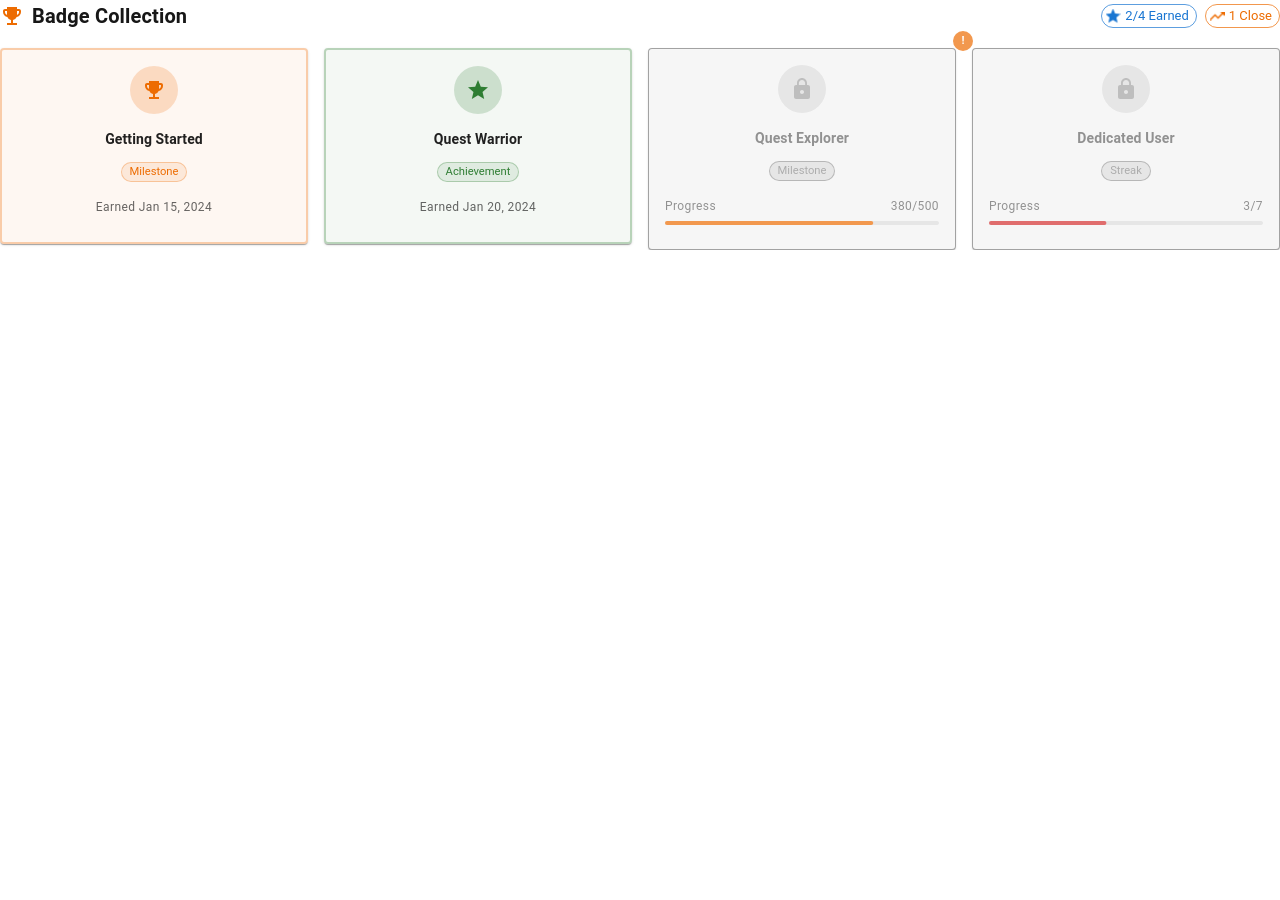
BadgeCollection › Badge Interaction › opens modal when badge is clicked
Click the heading "Getting Started" at (154, 138), box [105,130,203,146]
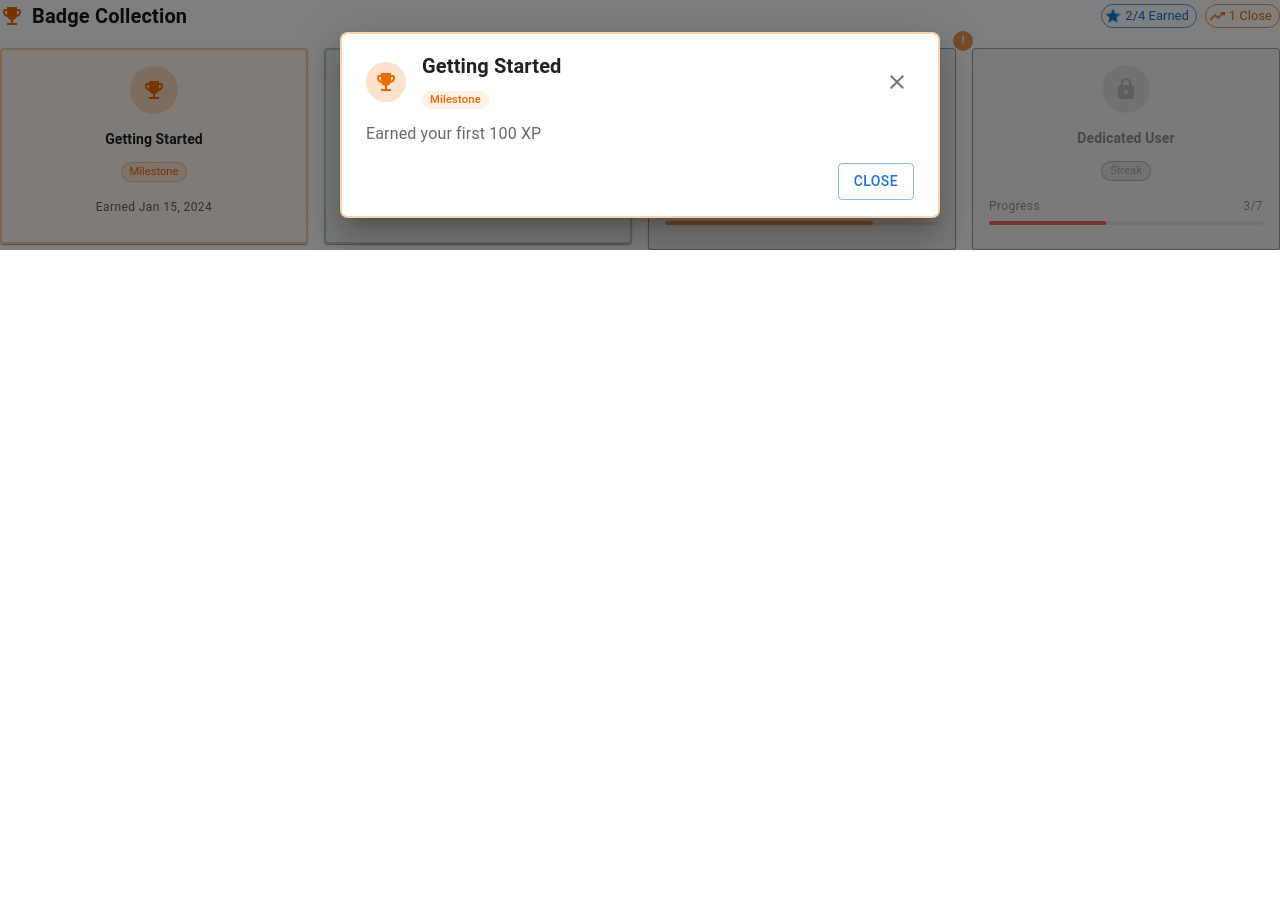
Expected: the dialog is shown, [340,32,940,218]
